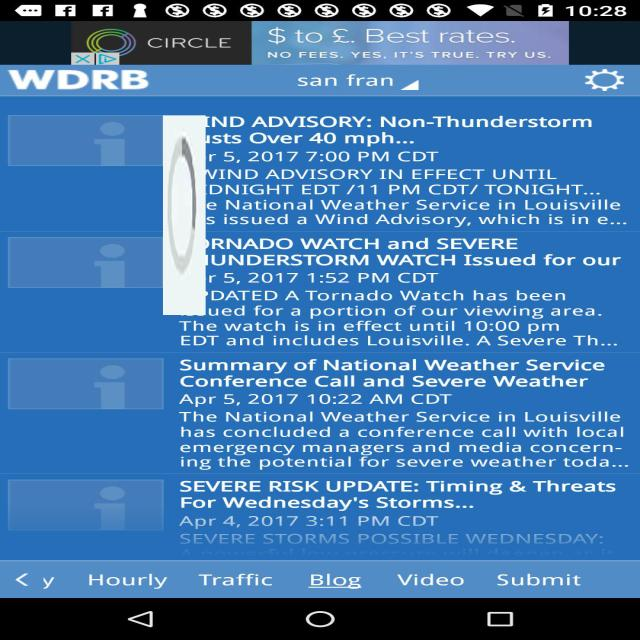misdirection: (163, 115, 206, 315)
